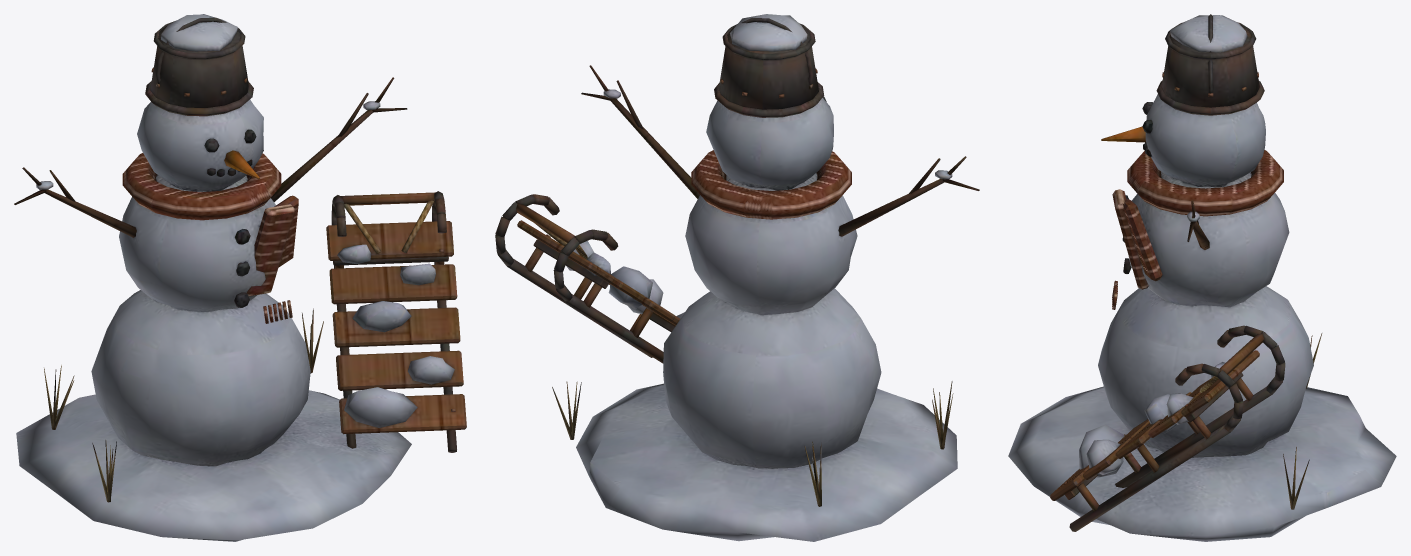
File: snowman.glb
3 renders of one model, left to right at view 1: azimuth 30°, elevation 25°; view 2: azimuth 150°, elevation 25°; view 3: azimuth 270°, elevation 25°, orthographic. The views are drawn at different scales.
Visible parts, largest first — view 1: model; view 2: model; view 3: model.
Boxes of the visible parts, left/top/right/bottom form: model: left=14, top=14, right=466, bottom=541; model: left=495, top=14, right=979, bottom=541; model: left=1008, top=14, right=1396, bottom=541.
Bounding box in the file's own units: 2.07 × 2.05 × 1.56.
1 material, 1 textured.
